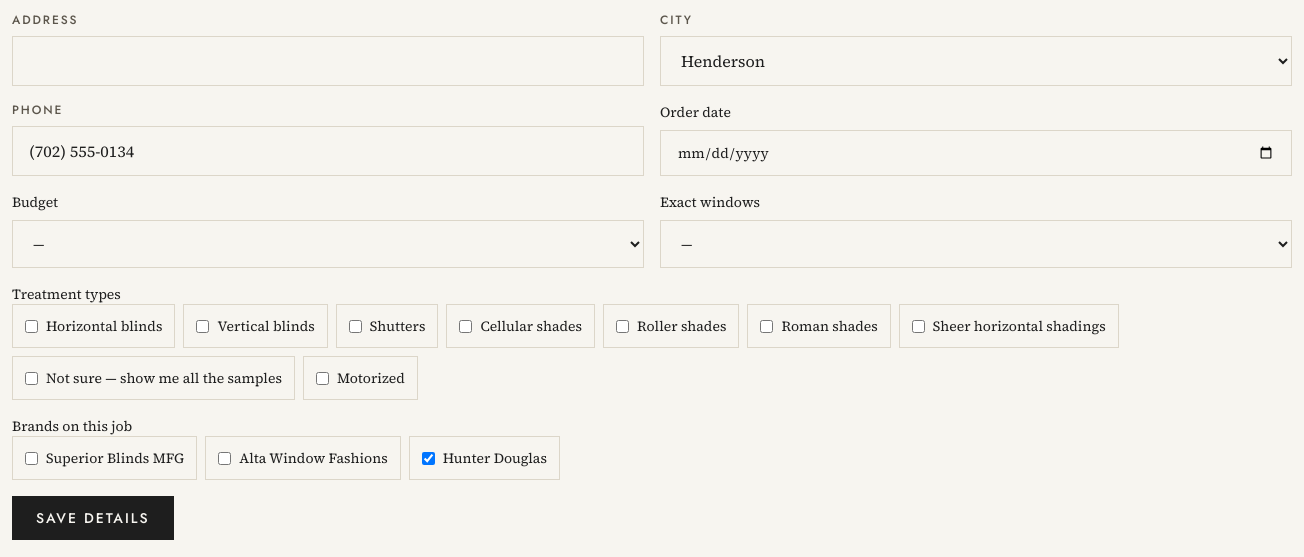
Scenario: job page › keeps typed values on the details form after a failed save
Type "2027-03-01" into the date field labelled "Order date".
click(976, 153); type("2027-03-01")  # box [660, 130, 1292, 176]
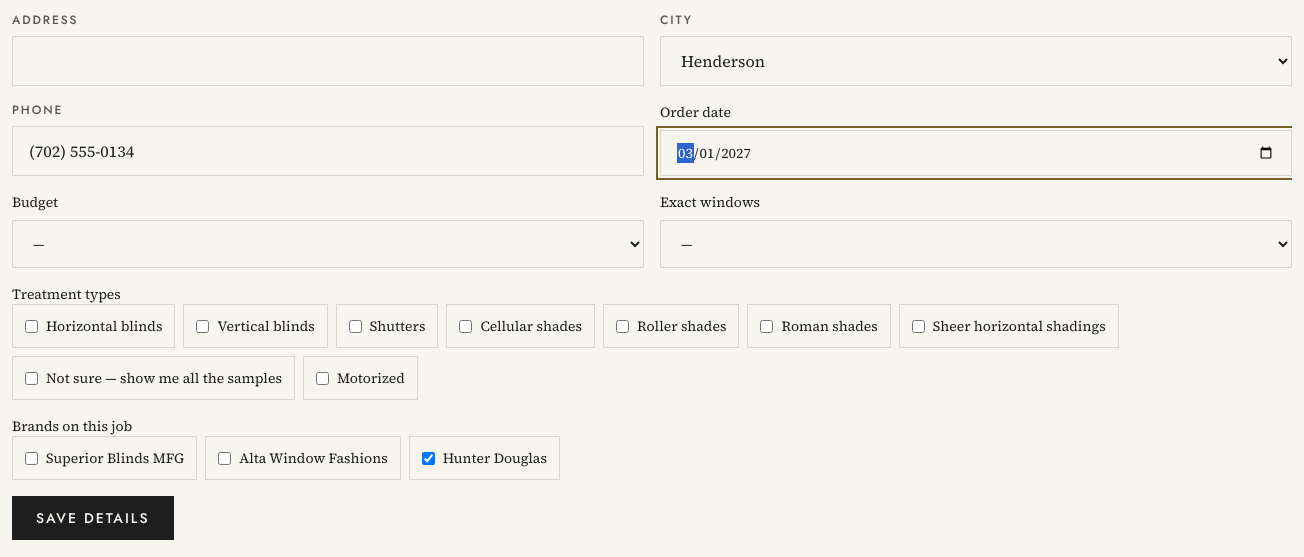
Click the button "Save details".
click(93, 518)  # box [12, 496, 174, 540]
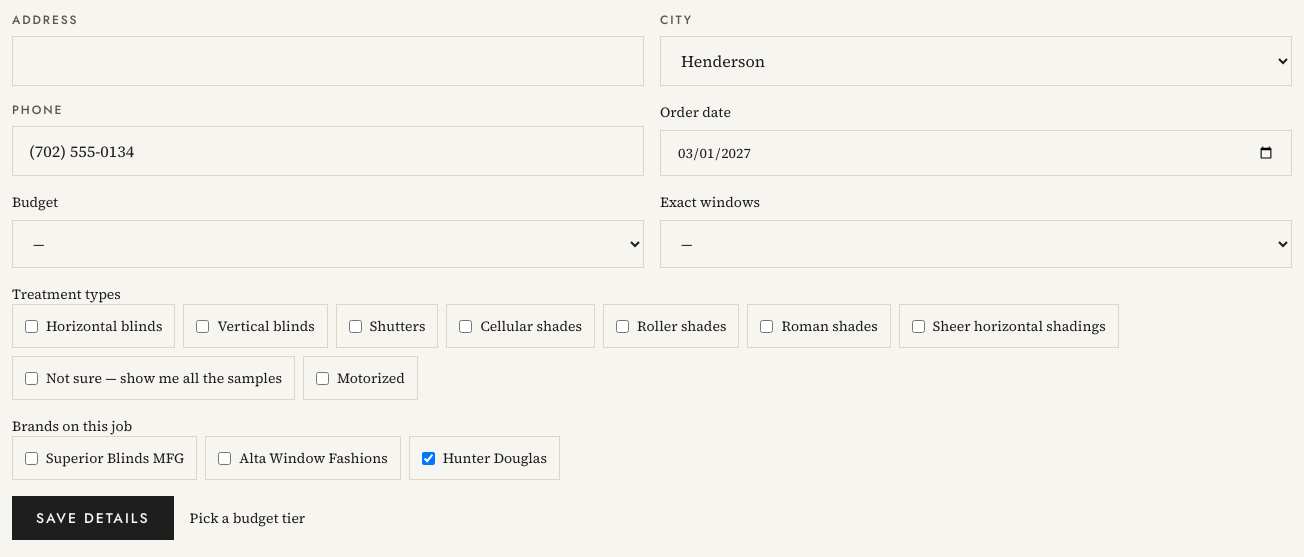
Now the date field labelled "Order date" holds "2027-03-01", box [660, 130, 1292, 176]
Now the message reads "Pick a budget tier", box [190, 508, 305, 528]
